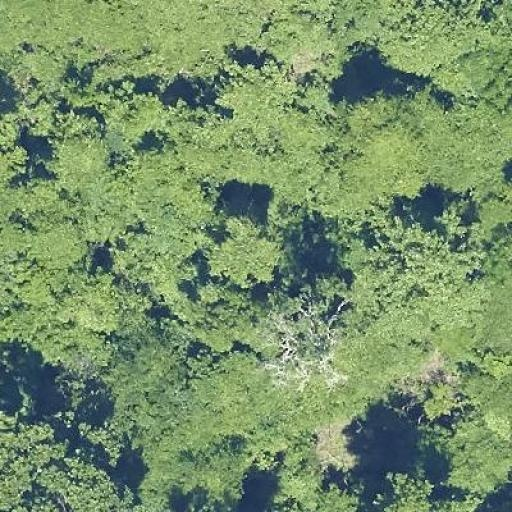tree-top: (353, 208, 478, 324), (6, 262, 131, 367), (329, 92, 436, 207), (362, 2, 499, 84), (3, 425, 99, 508), (264, 288, 342, 382), (110, 224, 194, 302), (206, 211, 288, 290), (432, 411, 508, 496), (436, 90, 508, 178), (26, 457, 136, 512), (29, 189, 98, 274), (44, 114, 118, 190), (219, 61, 293, 131), (127, 147, 205, 209), (110, 328, 177, 396), (190, 293, 250, 359), (110, 79, 164, 145), (372, 464, 444, 510), (282, 483, 380, 512), (1, 103, 29, 196)
